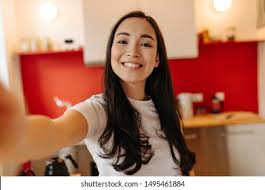Human_Female: (103, 13, 169, 173)
